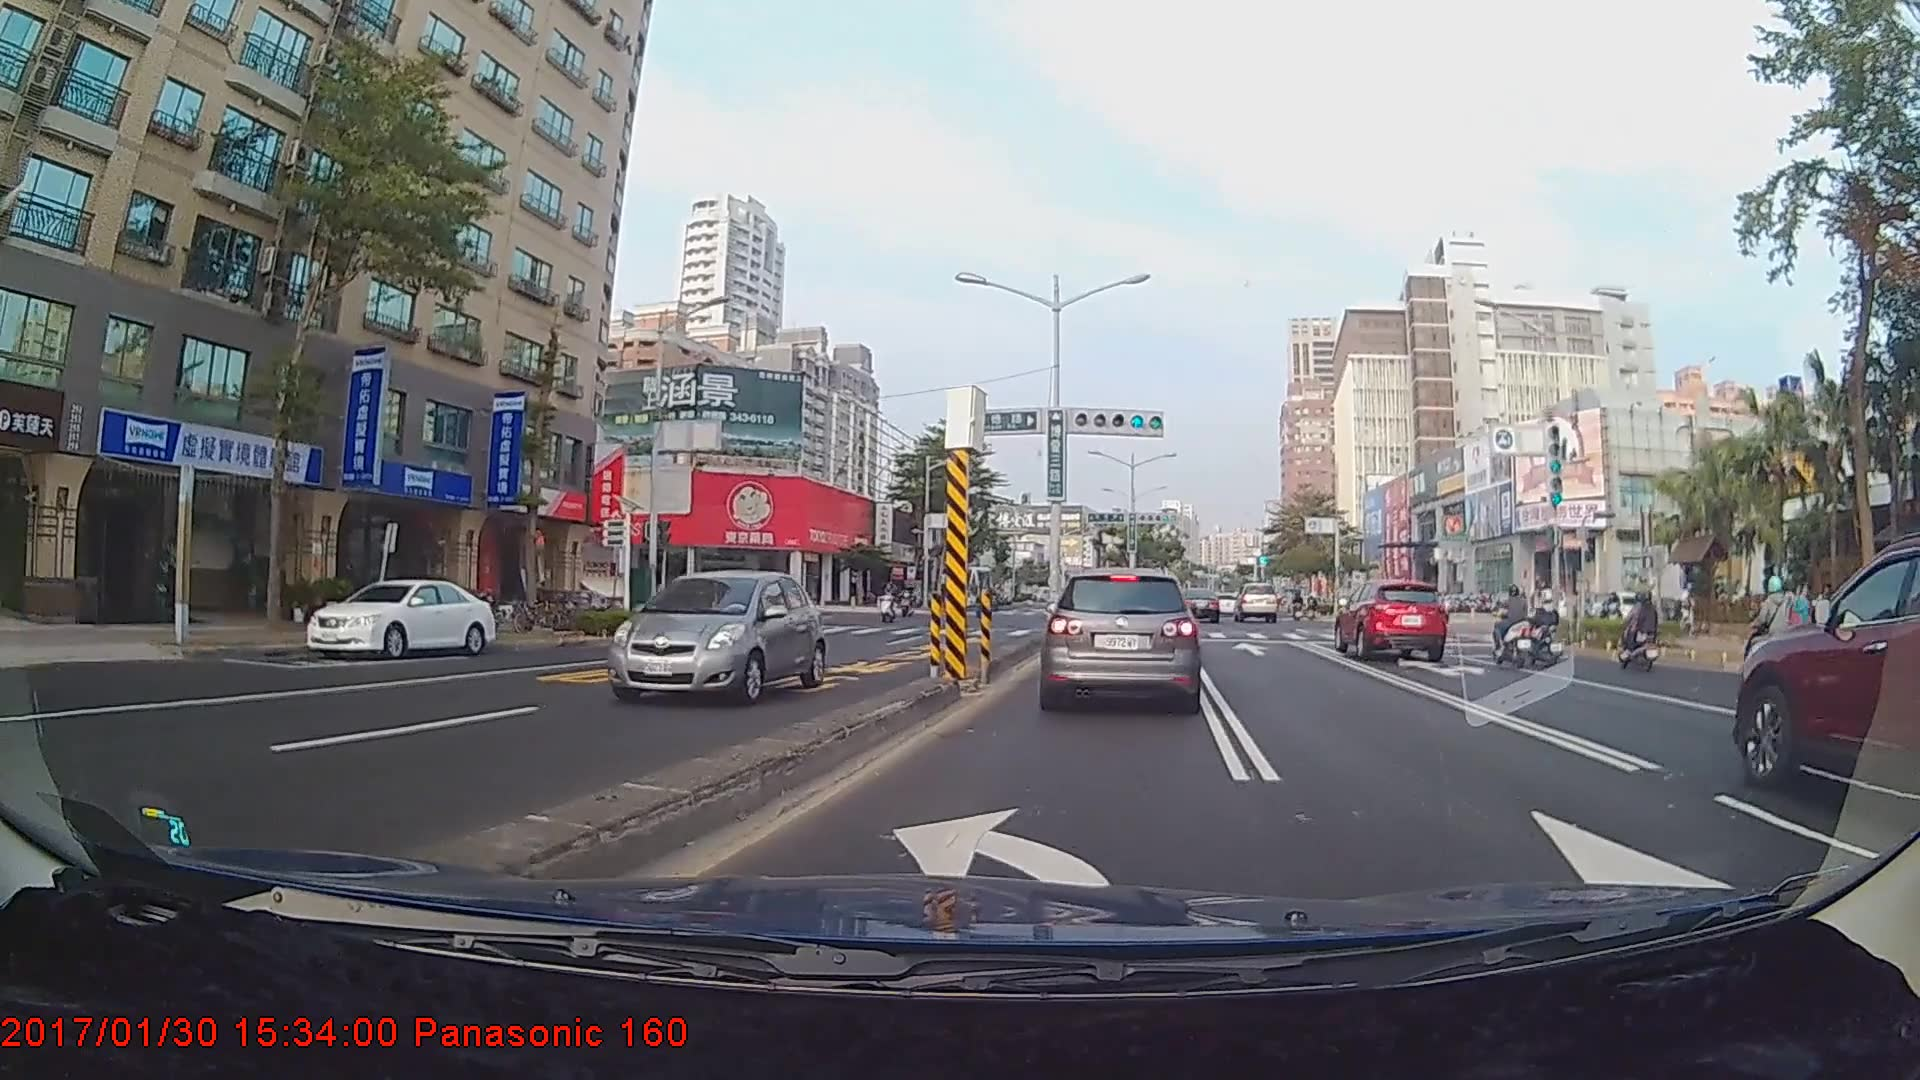pedestrian: (1791, 582, 1815, 651)
rider: (1484, 583, 1541, 668), (1520, 586, 1571, 674), (1609, 590, 1663, 671)
vehicle: (1730, 533, 1917, 839), (605, 571, 828, 708), (1041, 565, 1199, 711), (305, 577, 495, 659), (1334, 576, 1451, 662), (1233, 581, 1278, 623), (1177, 587, 1219, 622)
